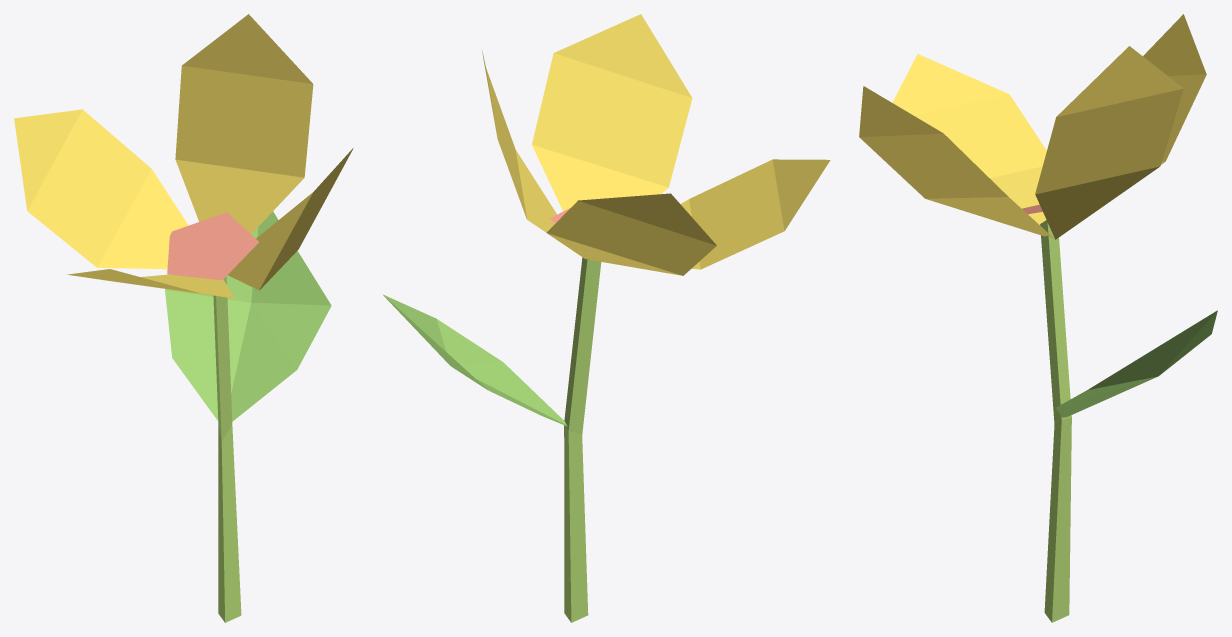
The model's file is Flower_d_TwoS_05.fbx.
The picture shows the model from 3 angles, left to right: view 1: azimuth 30°, elevation 25°; view 2: azimuth 150°, elevation 25°; view 3: azimuth 270°, elevation 25°; orthographic projection. The views are drawn at different scales.
Parts seen in each view (by area): view 1: Flower_d_TwoS_05; view 2: Flower_d_TwoS_05; view 3: Flower_d_TwoS_05.
Boxes of the visible parts, left/top/right/bottom form: Flower_d_TwoS_05: left=14, top=14, right=353, bottom=622; Flower_d_TwoS_05: left=383, top=14, right=830, bottom=622; Flower_d_TwoS_05: left=859, top=14, right=1217, bottom=622.
Size of the model in its own units: 19.84 by 35.43 by 19.21.
